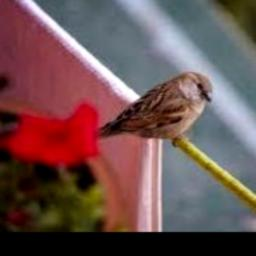Sparrow: (96, 71, 214, 147)
